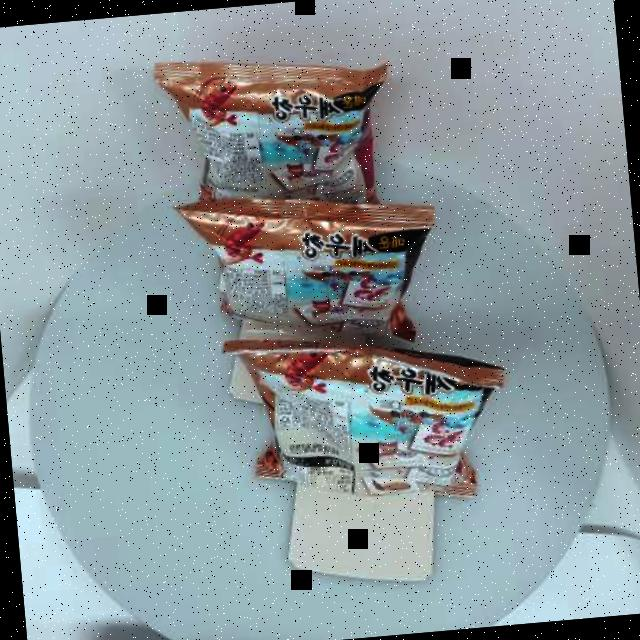snack_bag: (131, 27, 526, 529)
